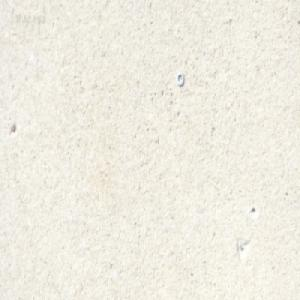Washer: (176, 71, 184, 86)
